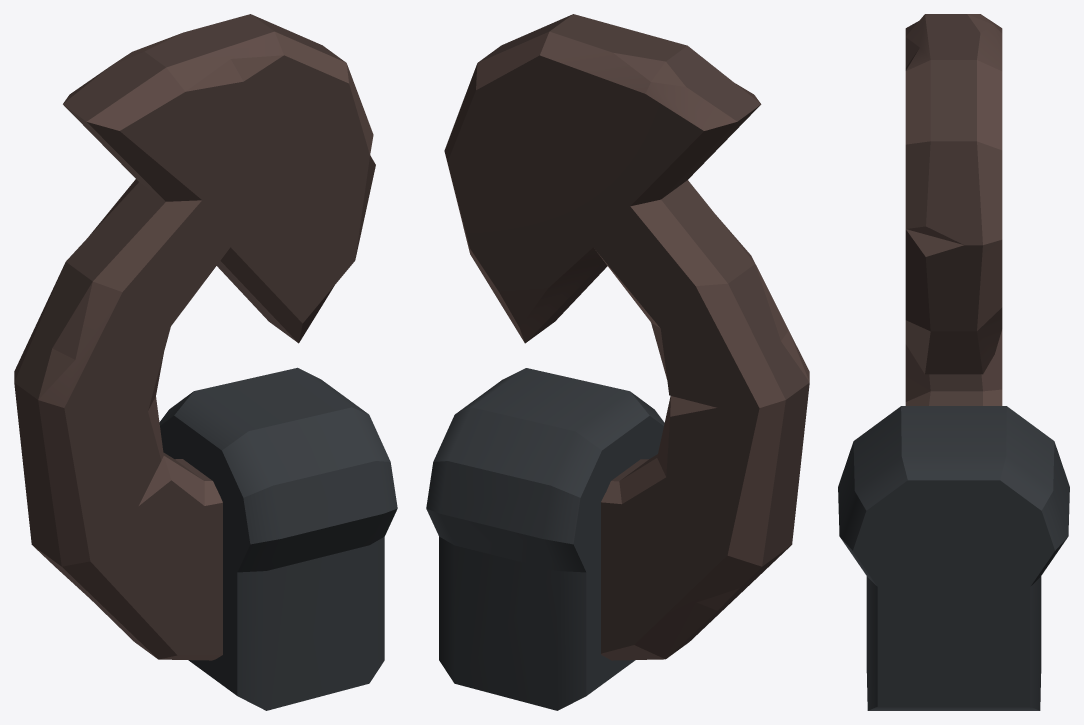
Rendered from SM_Bld_Roof_Trim_Cap_06.fbx.
The picture shows the model from 3 angles, left to right: view 1: azimuth 30°, elevation 25°; view 2: azimuth 150°, elevation 25°; view 3: azimuth 270°, elevation 25°; orthographic projection. The views are drawn at different scales.
Visible parts, largest first — view 1: SM_Bld_Roof_Trim_Cap_06; view 2: SM_Bld_Roof_Trim_Cap_06; view 3: SM_Bld_Roof_Trim_Cap_06.
Part boxes in pixels (x1=…): SM_Bld_Roof_Trim_Cap_06: x1=14, y1=14, x2=397, y2=710; SM_Bld_Roof_Trim_Cap_06: x1=426, y1=14, x2=809, y2=710; SM_Bld_Roof_Trim_Cap_06: x1=838, y1=14, x2=1069, y2=710.
Bounding box in the file's own units: 64.79 × 118 × 39.83.
